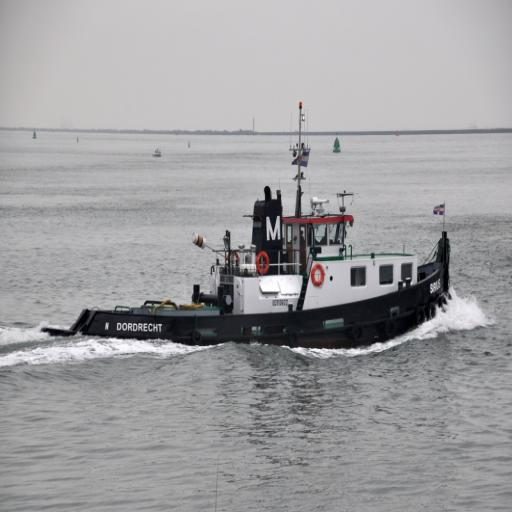tugboat: (41, 141, 458, 365)
